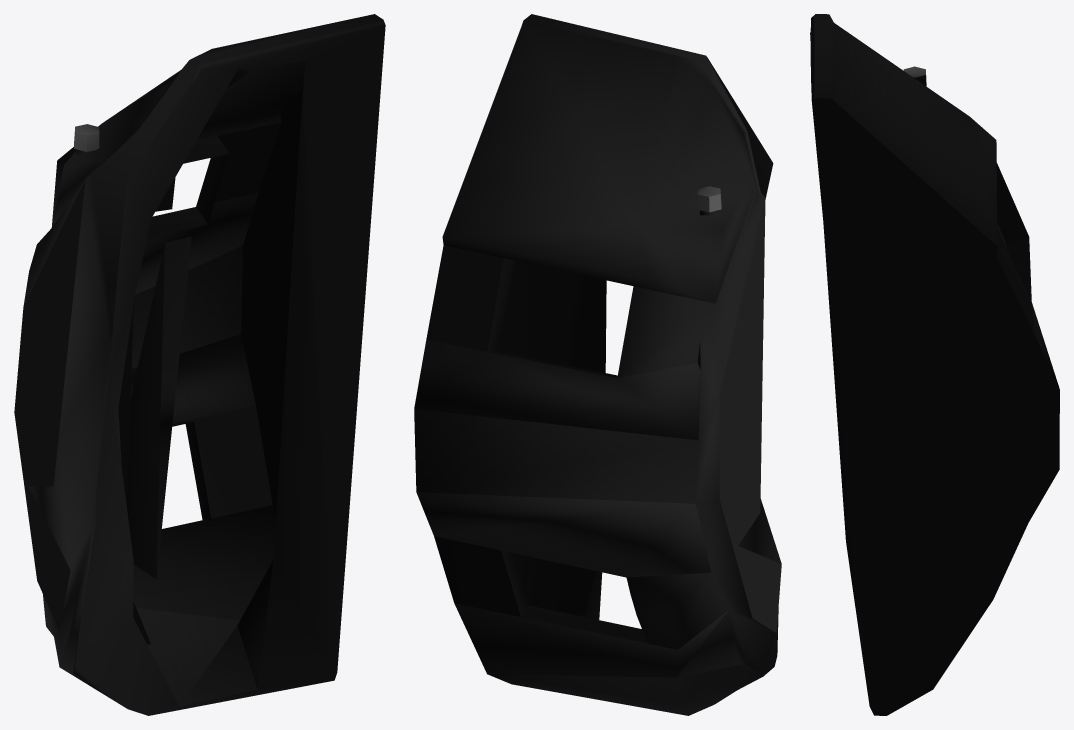
The model's file is caliper.glb.
The picture shows the model from 3 angles, left to right: view 1: azimuth 30°, elevation 25°; view 2: azimuth 150°, elevation 25°; view 3: azimuth 270°, elevation 25°; orthographic projection. The views are drawn at different scales.
Parts seen in each view (by area): view 1: polySurface1372_Ferrari_SF90XXStradale_2024_CallipersCallipe; view 2: polySurface1372_Ferrari_SF90XXStradale_2024_CallipersCallipe; view 3: polySurface1372_Ferrari_SF90XXStradale_2024_CallipersCallipe.
Part boxes in pixels (x1,y1,x2,y2): polySurface1372_Ferrari_SF90XXStradale_2024_CallipersCallipe: [14, 14, 385, 715]; polySurface1372_Ferrari_SF90XXStradale_2024_CallipersCallipe: [414, 14, 781, 715]; polySurface1372_Ferrari_SF90XXStradale_2024_CallipersCallipe: [810, 14, 1059, 715].
Bounding box in the file's own units: 0.00166 × 0.00372 × 0.00134.
1 material, 1 textured.
